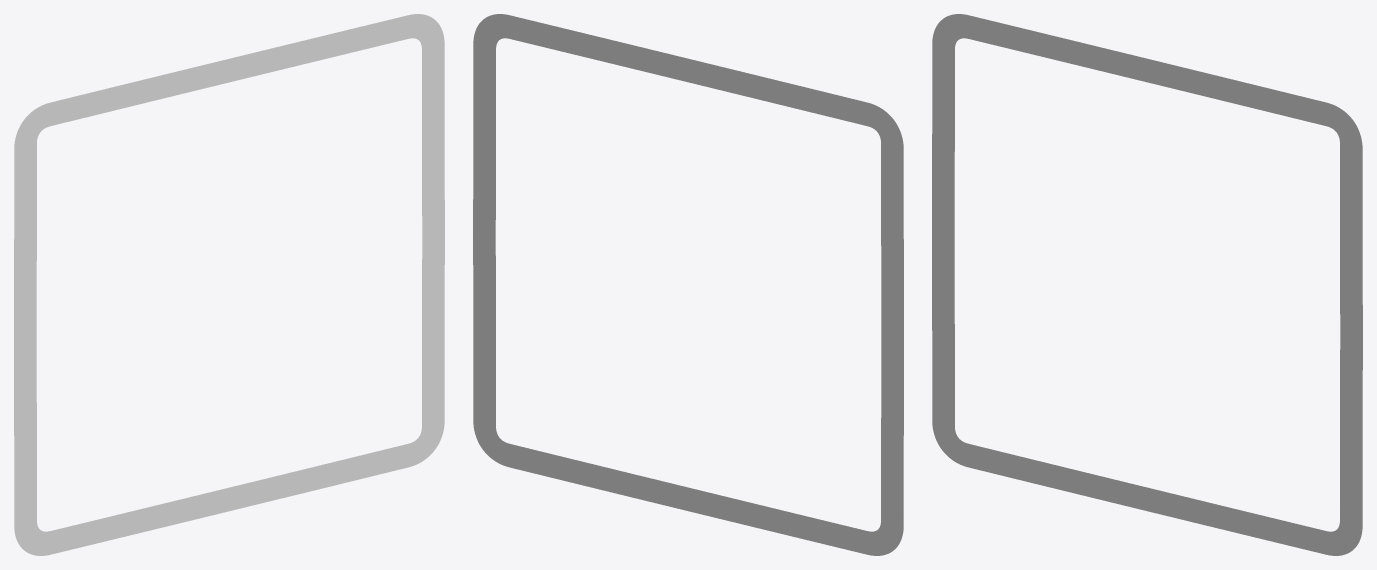
File: CardHighlightSmallOuter.fbx
3 renders of one model, left to right at view 1: azimuth 30°, elevation 25°; view 2: azimuth 150°, elevation 25°; view 3: azimuth 330°, elevation 25°, orthographic.
Visible parts, largest first — view 1: CardHighlightSmallOuter; view 2: CardHighlightSmallOuter; view 3: CardHighlightSmallOuter.
Boxes of the visible parts, x1=… form: CardHighlightSmallOuter: x1=14, y1=14, x2=444, y2=555; CardHighlightSmallOuter: x1=473, y1=14, x2=903, y2=555; CardHighlightSmallOuter: x1=932, y1=14, x2=1362, y2=555.
Size of the model in its own units: 7.15 by 7.18 by 3.99e-05.
Materials: 1 (1 with a texture image).
